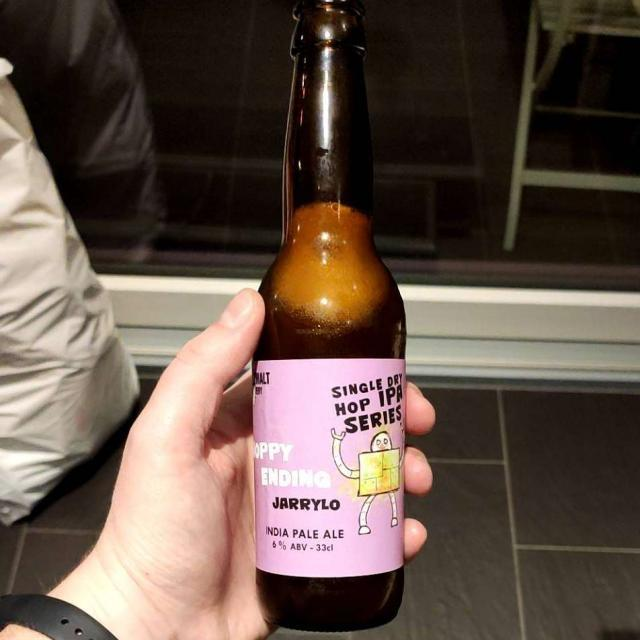beer: (250, 14, 410, 622)
